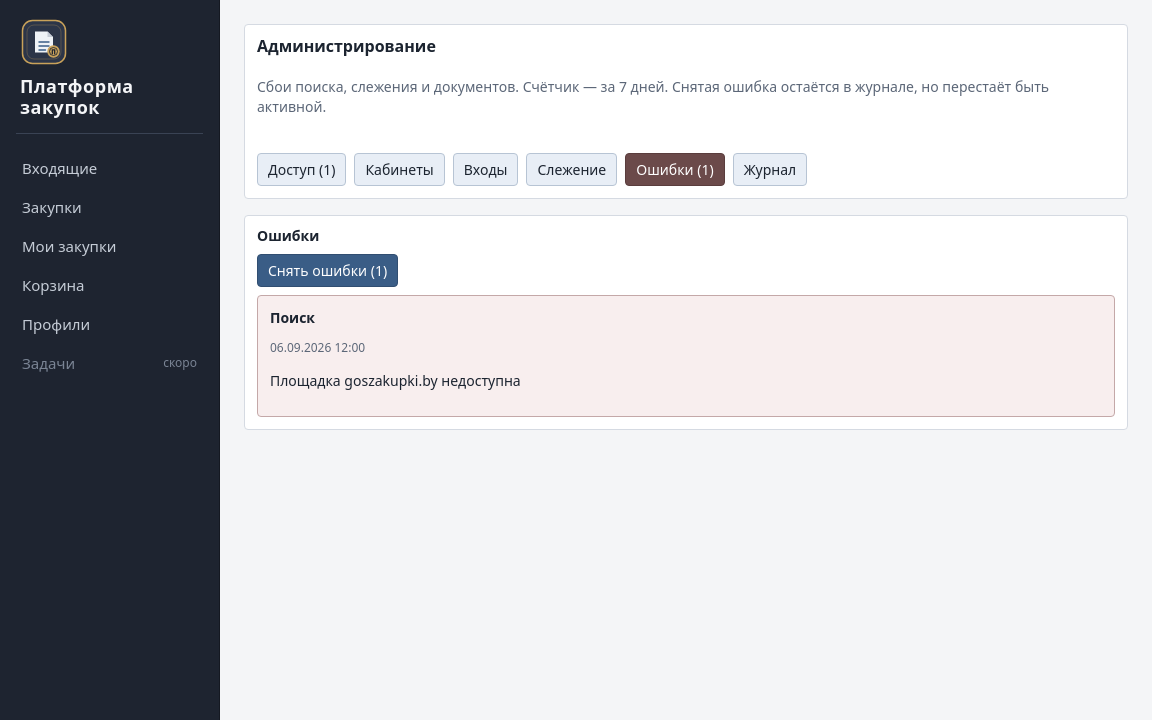
Test: AdminApp › clears active errors and keeps them in the log as taken off
Expected: the text "Площадка goszakupki.by недоступна" is shown, [270,371,521,390]
Click the button "Снять ошибки (1)". click: (328, 271)
box: [257,254,398,287]
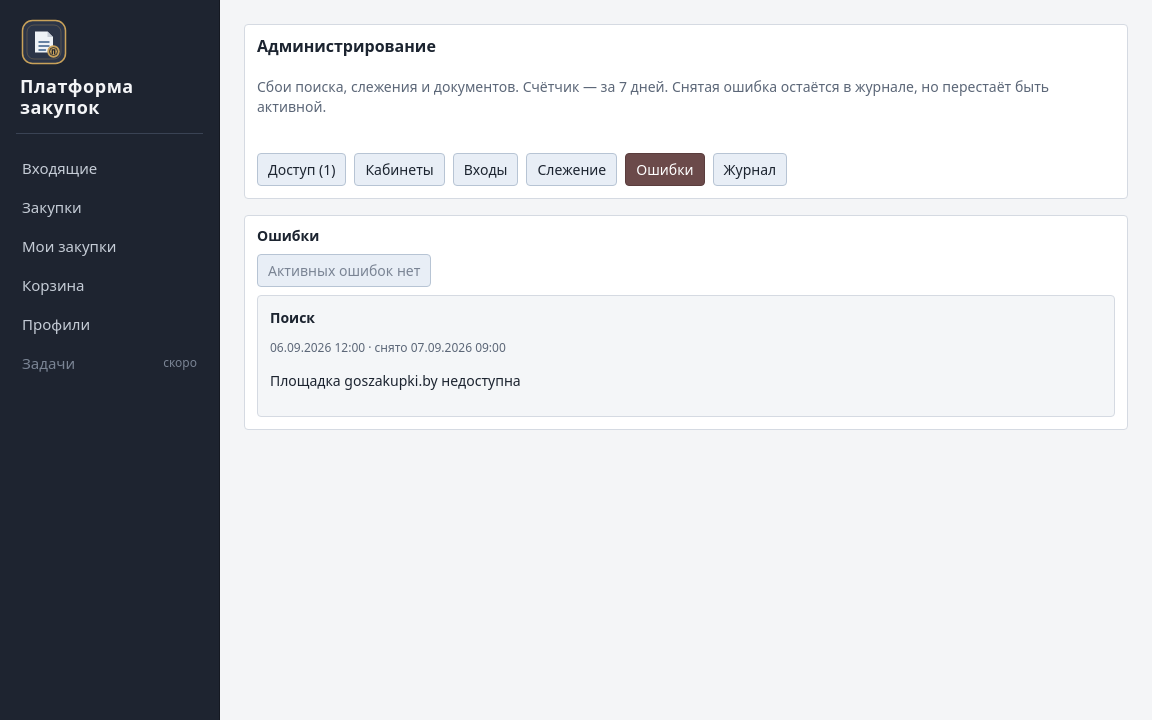
Expected: the text "Площадка goszakupki.by недоступна" is shown, [270,371,521,390]
Result: the button "Активных ошибок нет" is shown at [257,254,431,287]
Result: the text "06.09.2026 12:00 · снято 07.09.2026 09:00" is shown at [270,339,506,356]
